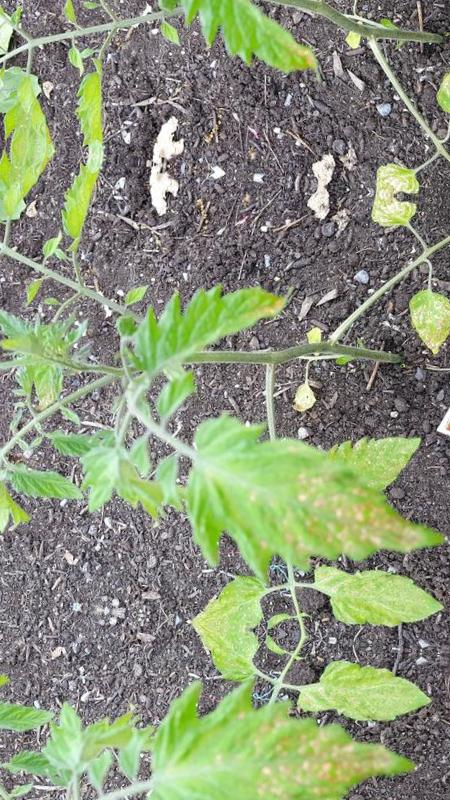Tomato leaf bacterial spot: (145, 401, 450, 585), (123, 259, 292, 400)
